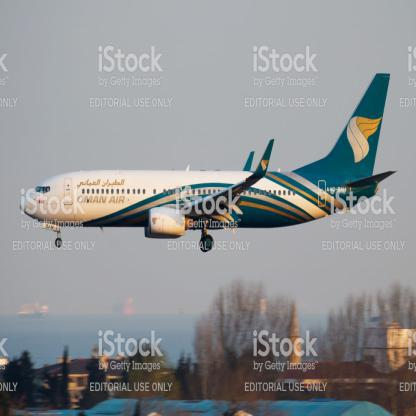CIV_Plane: (9, 66, 402, 256)
